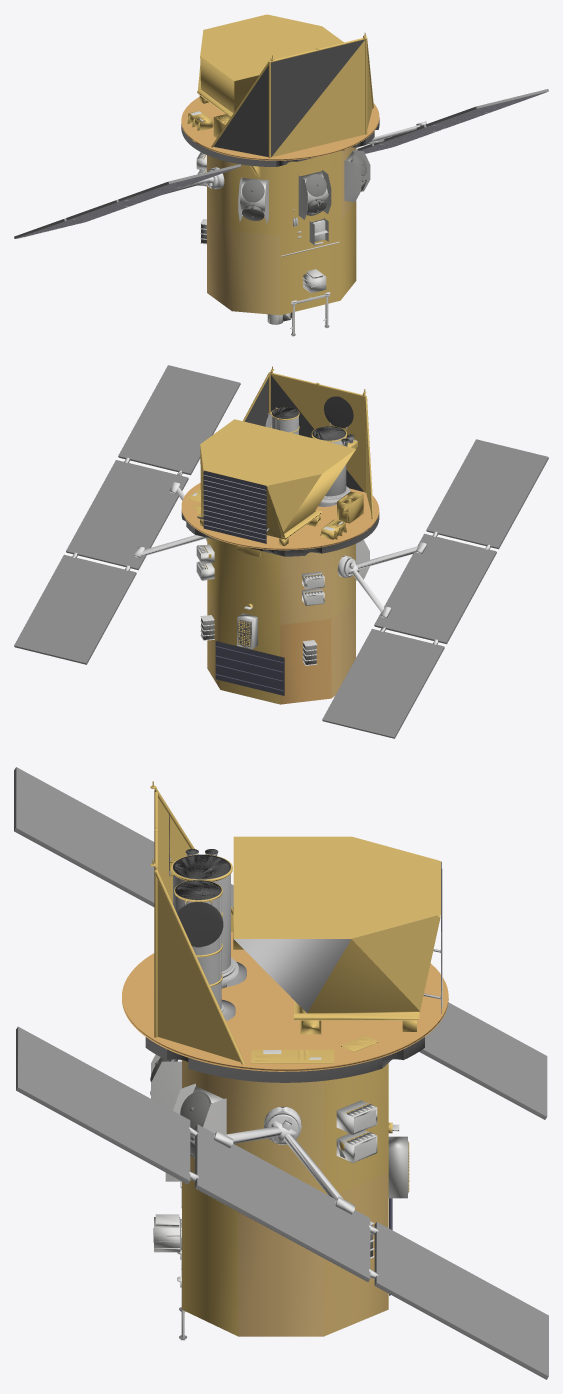
The model's file is Swift.glb.
3 renders of one model, top to bottom at view 1: azimuth 30°, elevation 25°; view 2: azimuth 150°, elevation 25°; view 3: azimuth 270°, elevation 25°, orthographic. The views are drawn at different scales.
Parts seen in each view (by area): view 1: Fake; view 2: Fake; view 3: Fake.
Boxes of the visible parts, x1,y1,x2,y2 form: Fake: (14, 14, 548, 336); Fake: (14, 365, 548, 738); Fake: (14, 767, 548, 1379).
Bounding box in the file's own units: 39.92 × 29.44 × 28.26.
